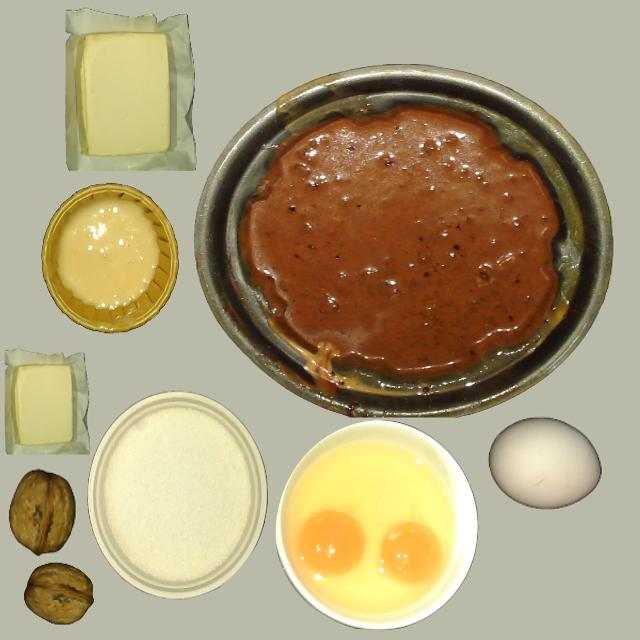Egg: (279, 492, 374, 617), (376, 505, 452, 596)
Sugar: (97, 391, 263, 607)
Walnut: (4, 465, 79, 561), (13, 558, 94, 635)
